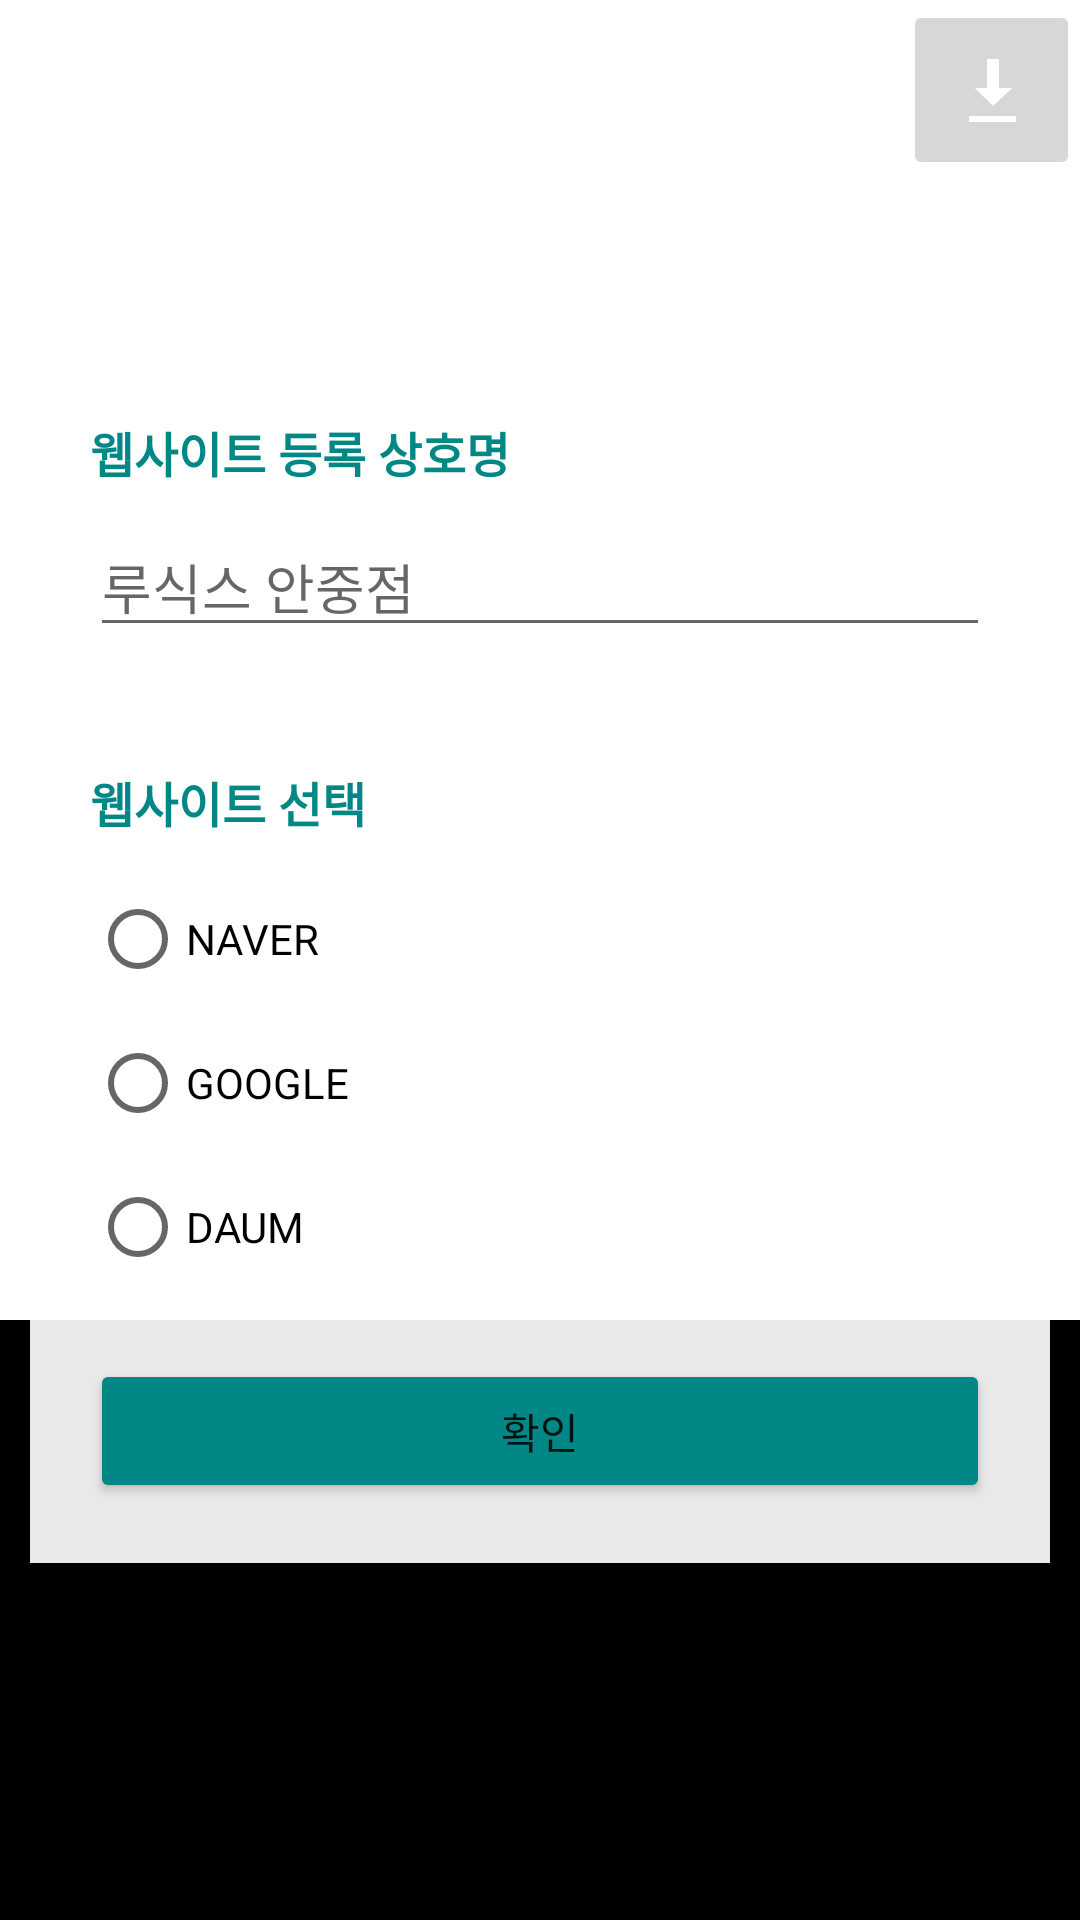

Icon bounding boxes for this 1080px x 1920px phone screenshot, format [x1,y1,x2,y2]:
download: [915,18,1068,162]
